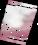dent: (0, 1, 38, 42)
